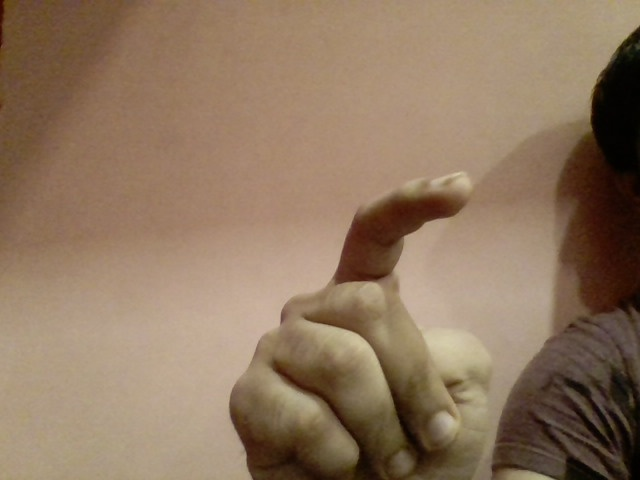x: (225, 162, 513, 480)
